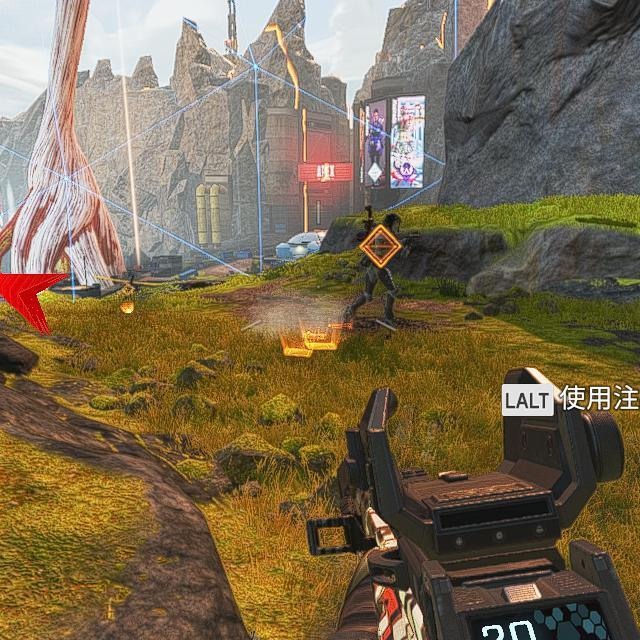avatar: (359, 211, 403, 330)
object: (360, 224, 402, 269)
